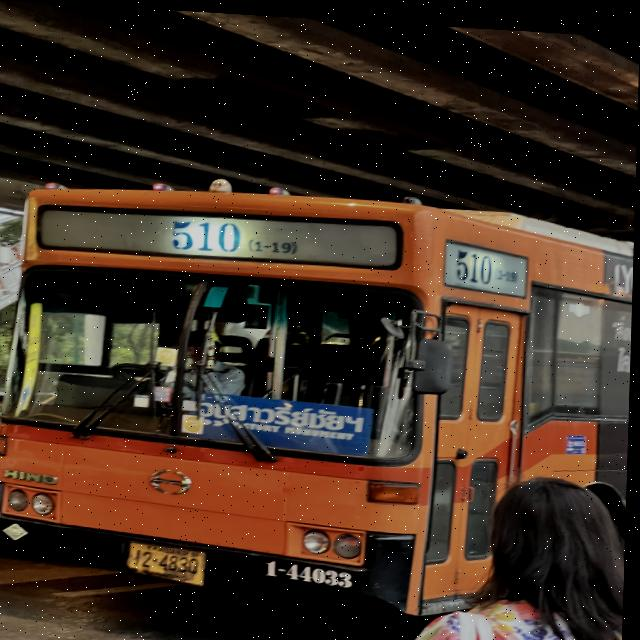BMTA-bus: (0, 157, 636, 629)
Bus-Line-Number: (160, 210, 315, 258)
Destination-Sign-Normal: (197, 388, 377, 454)
